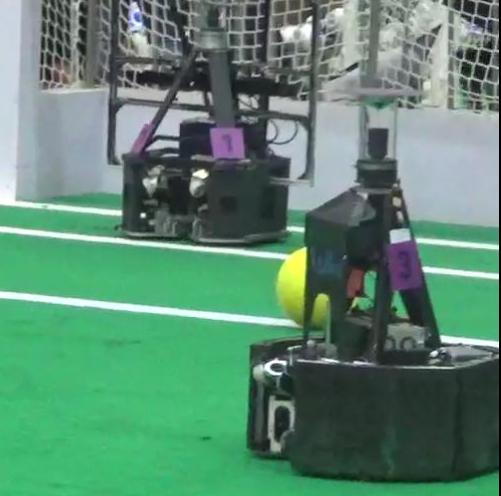robot: (239, 77, 498, 481), (108, 4, 302, 250)
